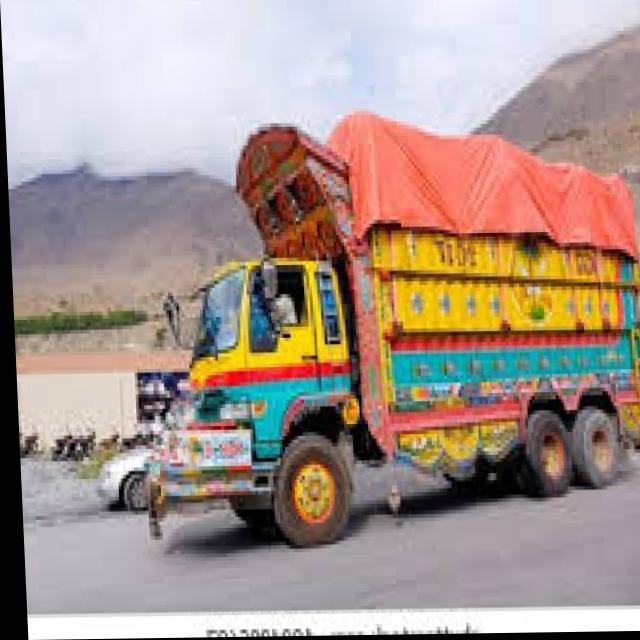covered: (125, 102, 640, 550)
